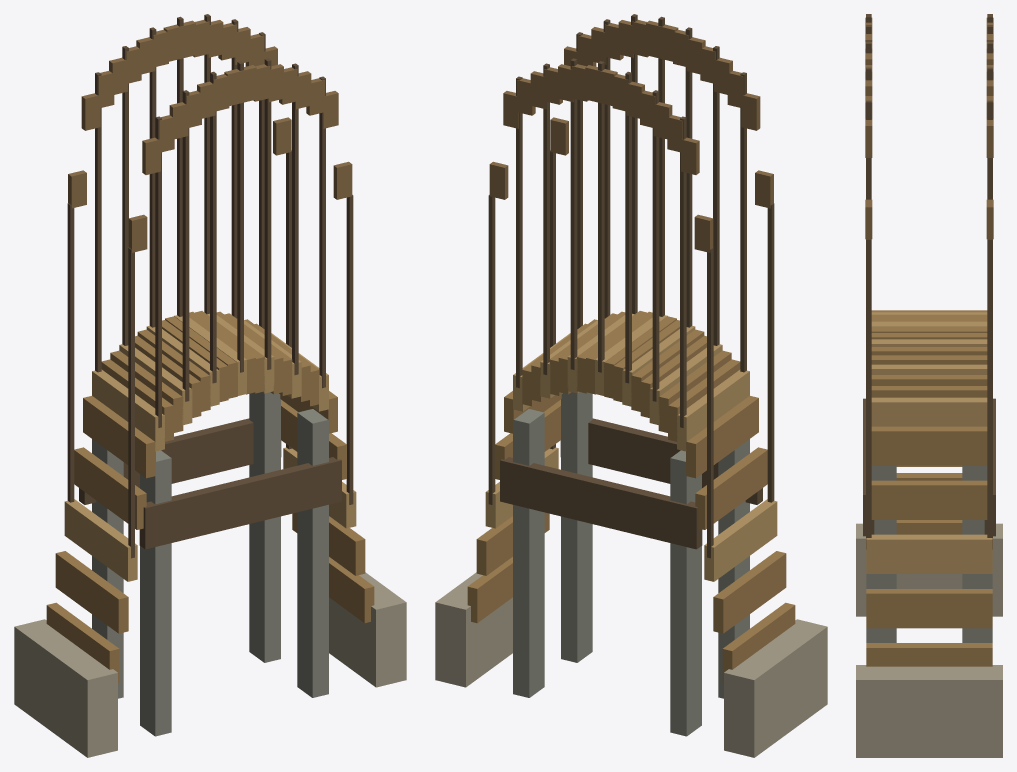
Rendered from bridge.glb.
3 views of the same model, side by side, from view 1: azimuth 30°, elevation 25°; view 2: azimuth 150°, elevation 25°; view 3: azimuth 270°, elevation 25° (orthographic).
Visible parts, largest first — view 1: part_3, part_1, part_2, part_4, part_5, part_0; view 2: part_3, part_1, part_2, part_4, part_5, part_0; view 3: part_1, part_5, part_0, part_3, part_2, part_4.
Part boxes in pixels (x1,y1,x2,y2): part_3: (67, 14, 353, 558); part_1: (46, 311, 374, 683); part_2: (92, 392, 328, 736); part_4: (68, 20, 352, 252); part_5: (14, 572, 406, 757); part_0: (64, 313, 356, 581); part_3: (488, 14, 774, 558); part_1: (467, 311, 795, 683); part_2: (513, 392, 749, 736); part_4: (489, 20, 773, 252); part_5: (435, 572, 827, 757); part_0: (485, 313, 777, 581); part_1: (866, 310, 992, 666); part_5: (856, 523, 1002, 757); part_0: (866, 312, 992, 573); part_3: (863, 14, 995, 549); part_2: (866, 465, 992, 642); part_4: (865, 17, 993, 239).
Bounding box in the file's own units: 2.92 × 5.7 × 1.16.
